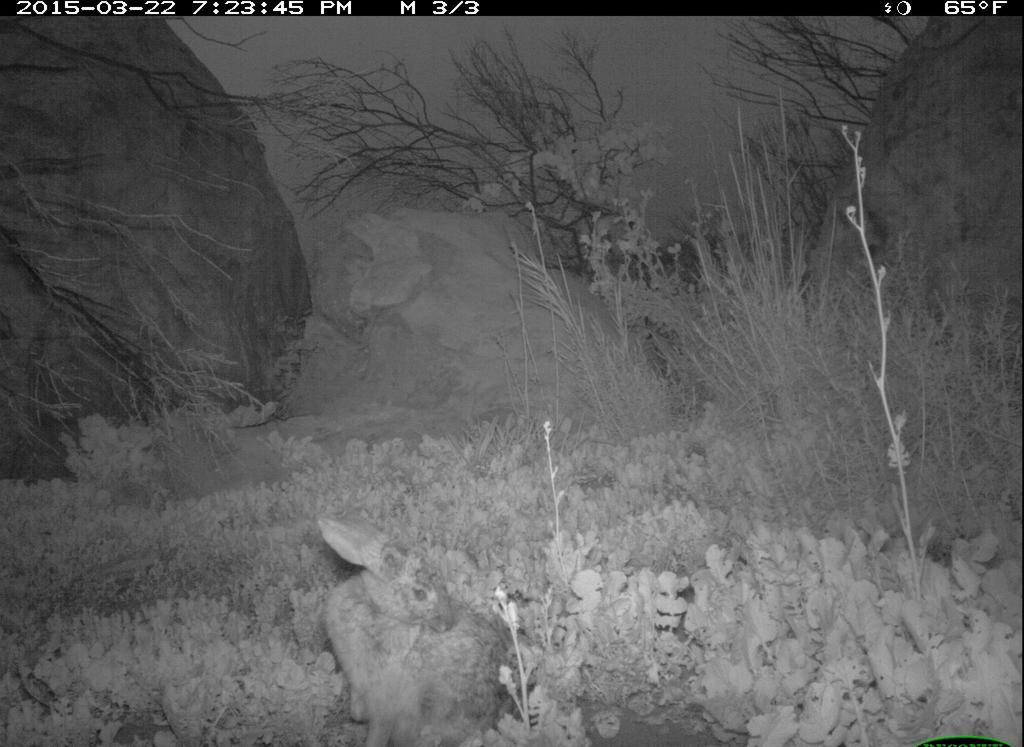rabbit: (294, 504, 542, 747)
